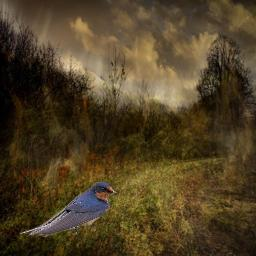Swallow: (19, 181, 117, 237)
